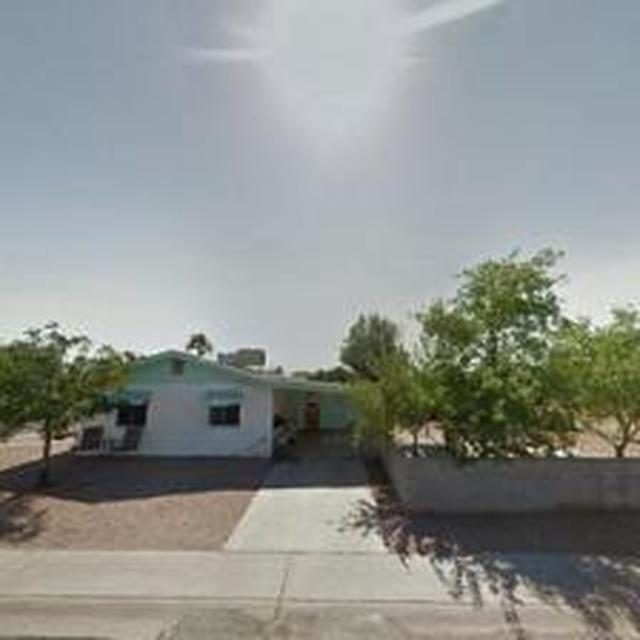building: (69, 346, 382, 458)
